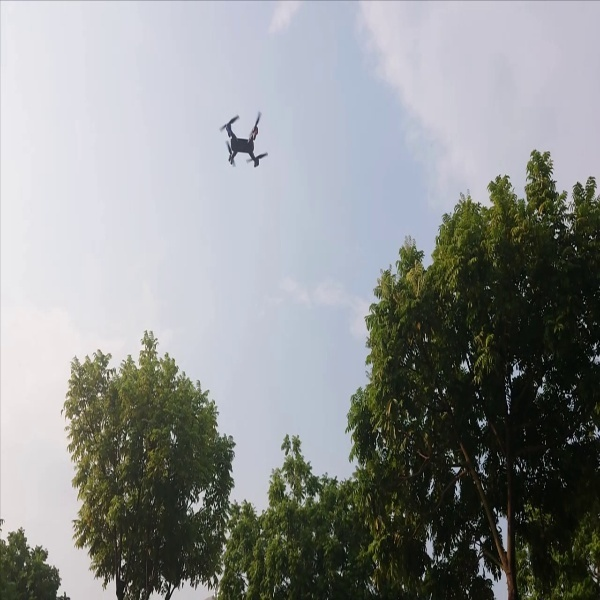drone: (222, 96, 271, 176)
